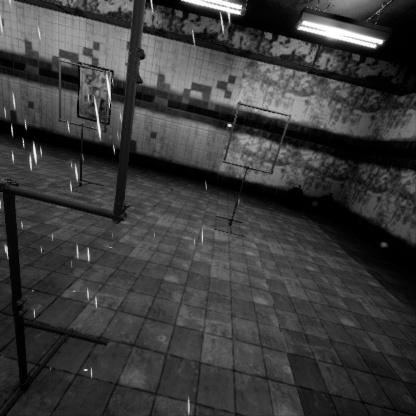gate: (223, 240, 296, 315), (59, 282, 115, 357)
